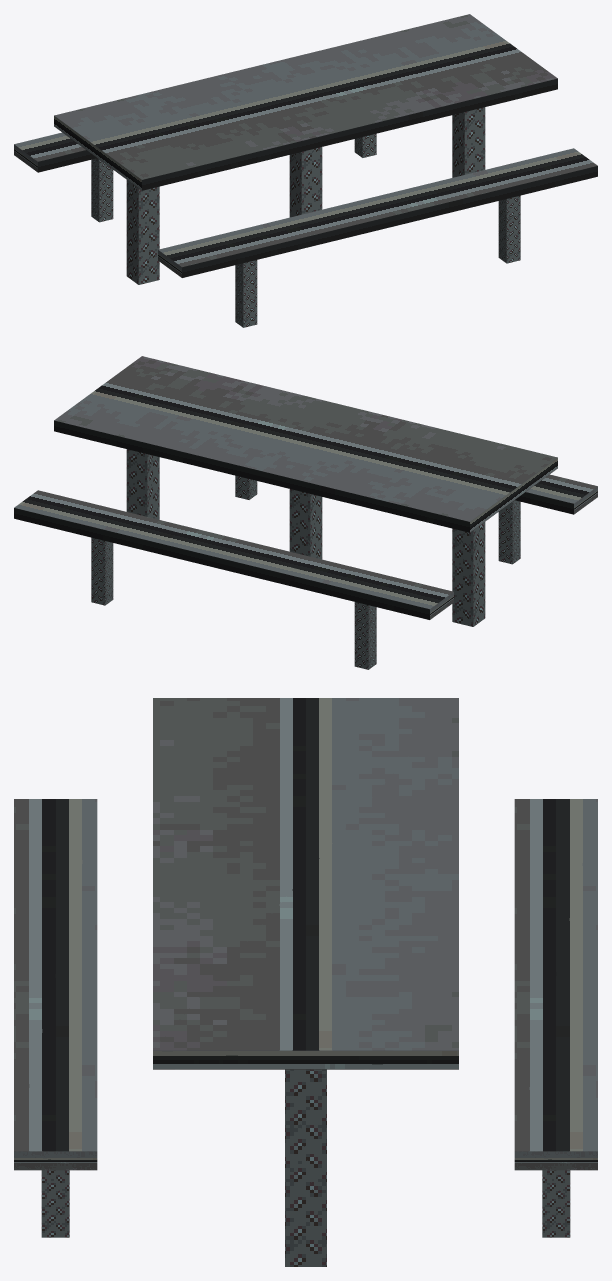
The picture shows the model from 3 angles, top to bottom: view 1: azimuth 30°, elevation 25°; view 2: azimuth 150°, elevation 25°; view 3: azimuth 270°, elevation 25°; orthographic projection. The views are drawn at different scales.
Visible parts, largest first — view 1: ark/mess_table; view 2: ark/mess_table; view 3: ark/mess_table.
Part boxes in pixels (bbox=[...]): ark/mess_table: bbox=[14, 14, 597, 327]; ark/mess_table: bbox=[14, 356, 597, 669]; ark/mess_table: bbox=[14, 698, 597, 1266].
Bounding box in the file's own units: 1.2 × 0.39 × 0.84.
Materials: 1 (1 with a texture image).
